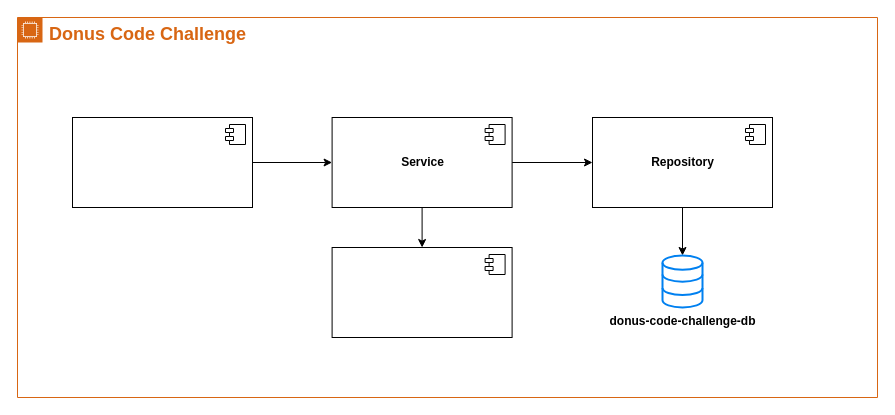
This 895x415 diagram has some shape labels left out. The centre of each missing label's shape, as x and y in pixels:
"Controller" goes at pixel 162 162.
"Converter" goes at pixel 421 292.
